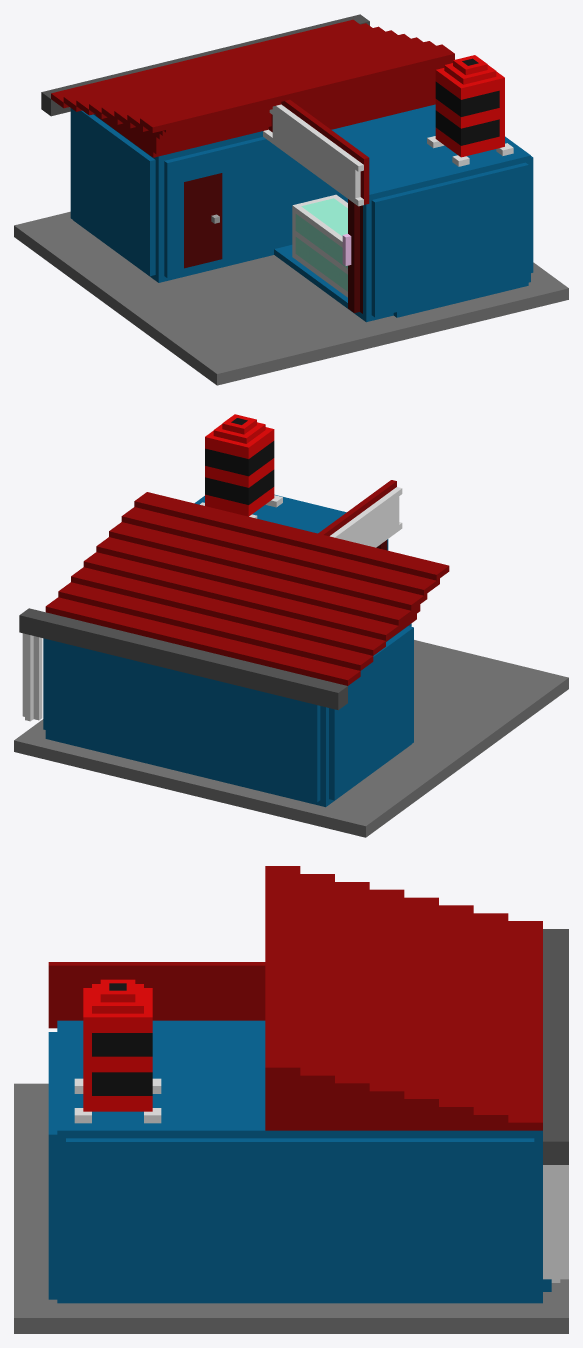
Rendered from shop-1.obj.
The picture shows the model from 3 angles, top to bottom: view 1: azimuth 30°, elevation 25°; view 2: azimuth 150°, elevation 25°; view 3: azimuth 270°, elevation 25°; orthographic projection. The views are drawn at different scales.
Size of the model in its own units: 6.4 by 3.9 by 6.4.
1 material, 1 textured.
